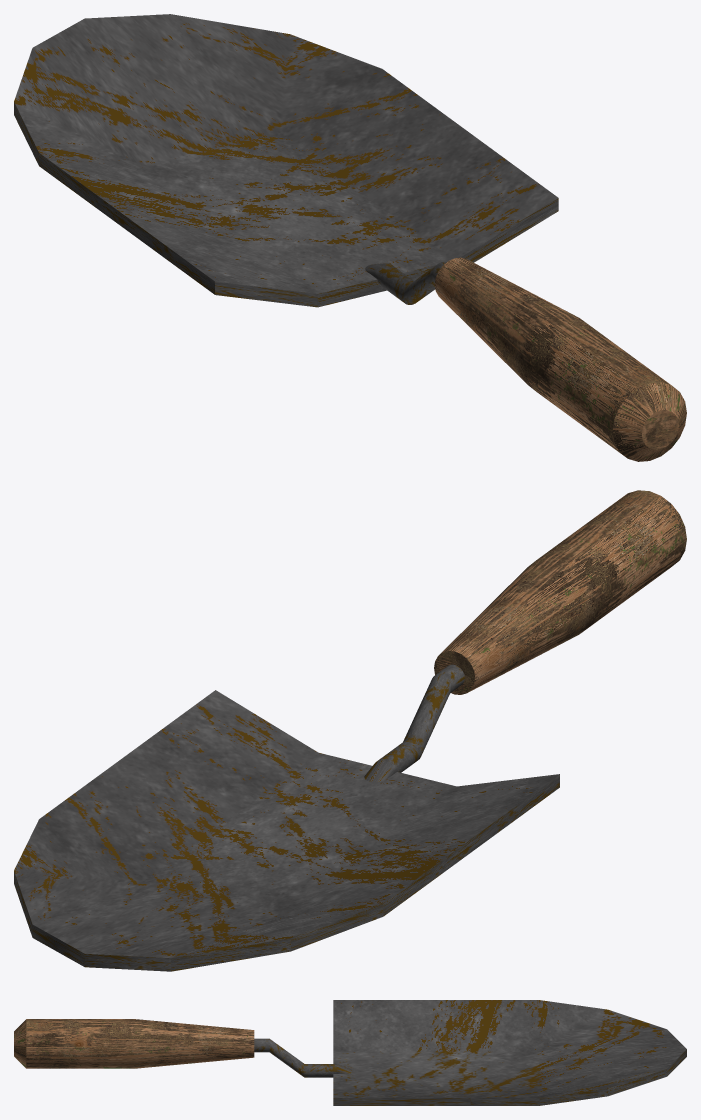
The model's file is m_trowel.fbx.
3 views of the same model, one above another, from view 1: azimuth 30°, elevation 25°; view 2: azimuth 150°, elevation 25°; view 3: azimuth 270°, elevation 25° (orthographic). The views are drawn at different scales.
Parts seen in each view (by area): view 1: trowel; view 2: trowel; view 3: trowel.
Boxes of the visible parts, x1,y1,x2,y2 form: trowel: (14, 14, 686, 461); trowel: (14, 490, 686, 971); trowel: (14, 1000, 686, 1105).
Size of the model in its own units: 36.03 by 9.92 by 104.
